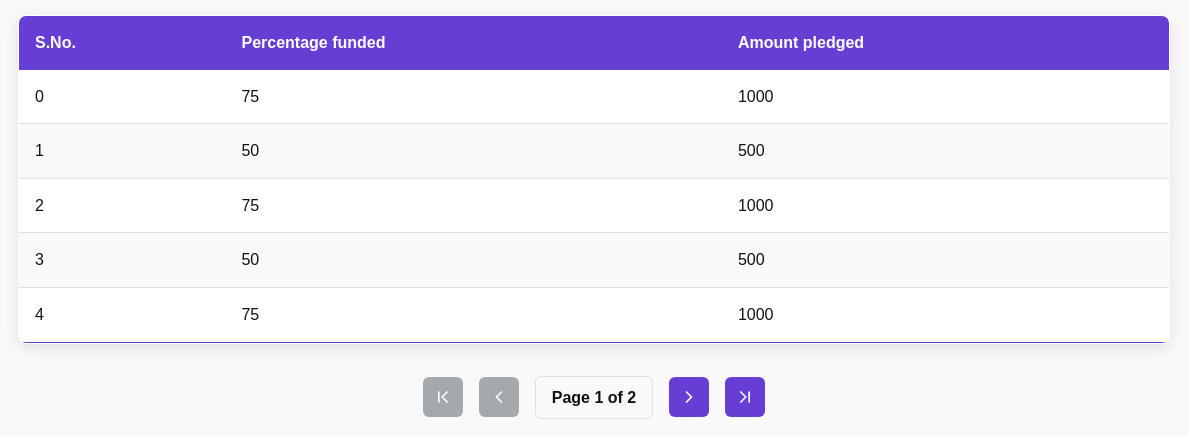
Scenario: PaginatedTable Component › should show only 1 records for second page on click of next
Click the button named "go to next page".
click(689, 397)  # box [669, 377, 709, 417]
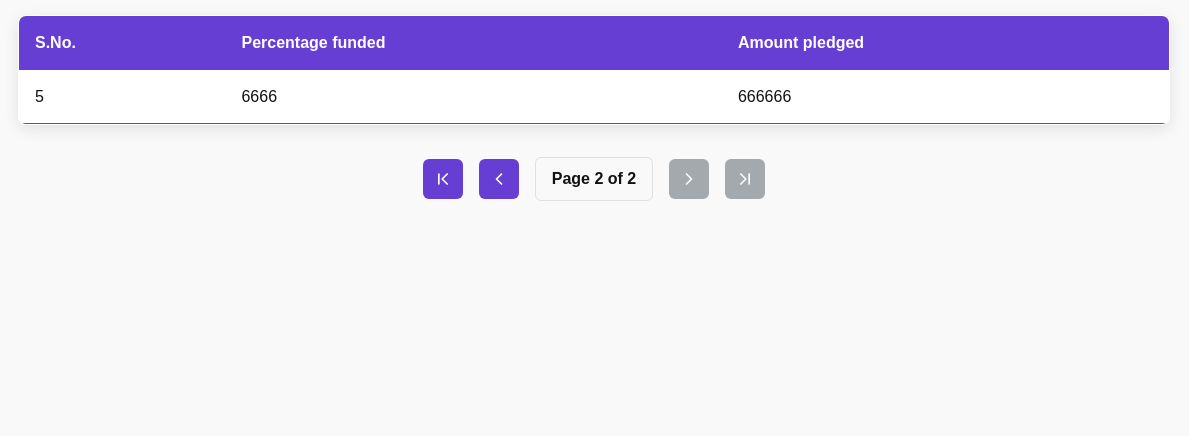
Expected: the text "5" is shown, [18, 70, 226, 124]
Expected: the text "666666" is shown, [722, 70, 1170, 124]
Expected: the text "6666" is shown, [226, 70, 722, 124]
